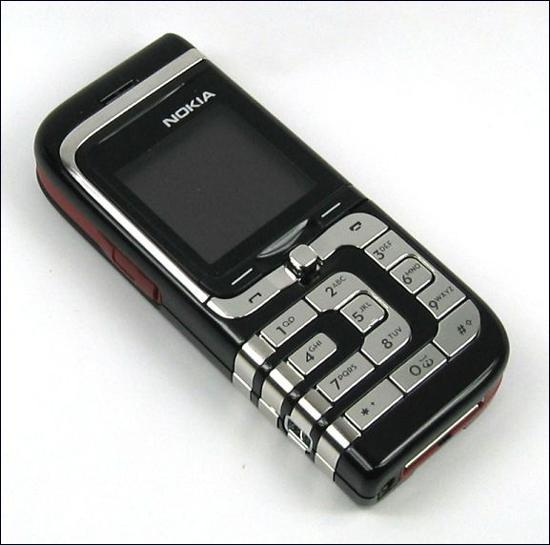phone: (35, 33, 501, 497)
